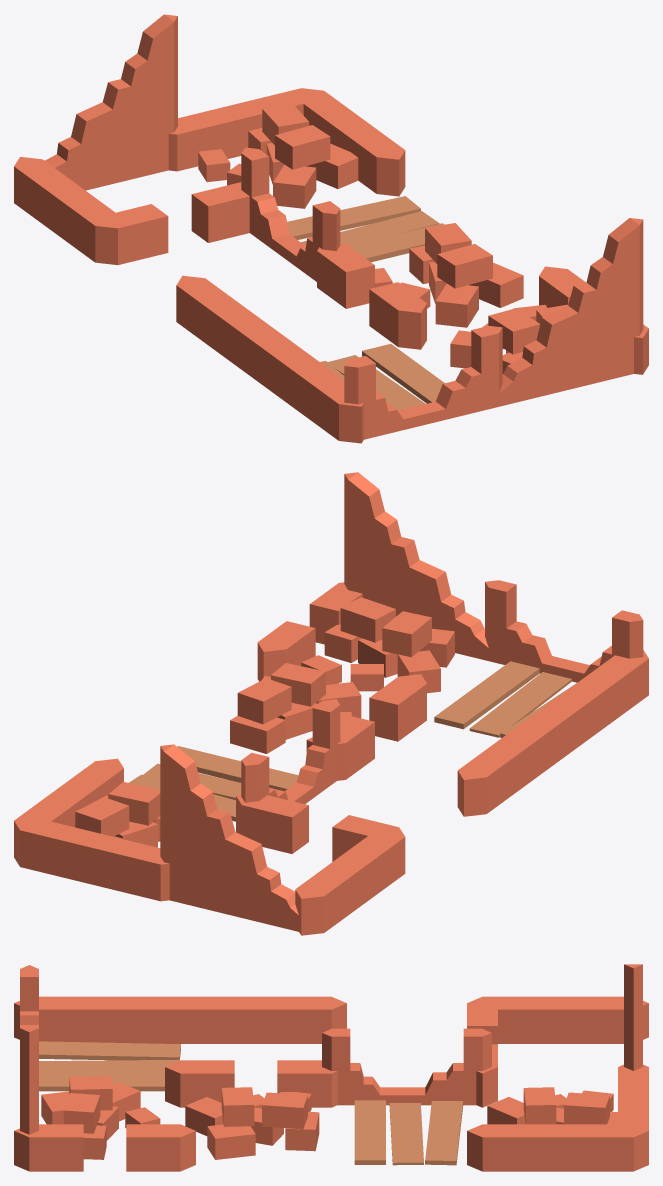
The model's file is Casa8Rota.FBX.
3 views of the same model, one above another, from view 1: azimuth 30°, elevation 25°; view 2: azimuth 150°, elevation 25°; view 3: azimuth 270°, elevation 25° (orthographic). The views are drawn at different scales.
Parts seen in each view (by area): view 1: wall_border_167; view 2: wall_border_167; view 3: wall_border_167.
Part boxes in pixels (x1=…): wall_border_167: x1=14, y1=14, x2=648, y2=443; wall_border_167: x1=14, y1=472, x2=648, y2=935; wall_border_167: x1=14, y1=964, x2=648, y2=1171.
Bounding box in the file's own units: 2205 × 1000 × 4205.
